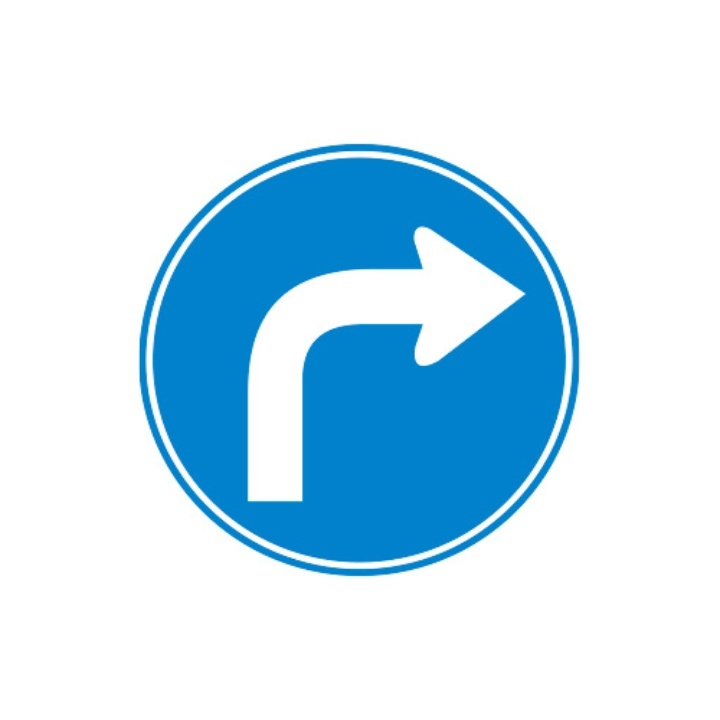right: (227, 208, 529, 521)
